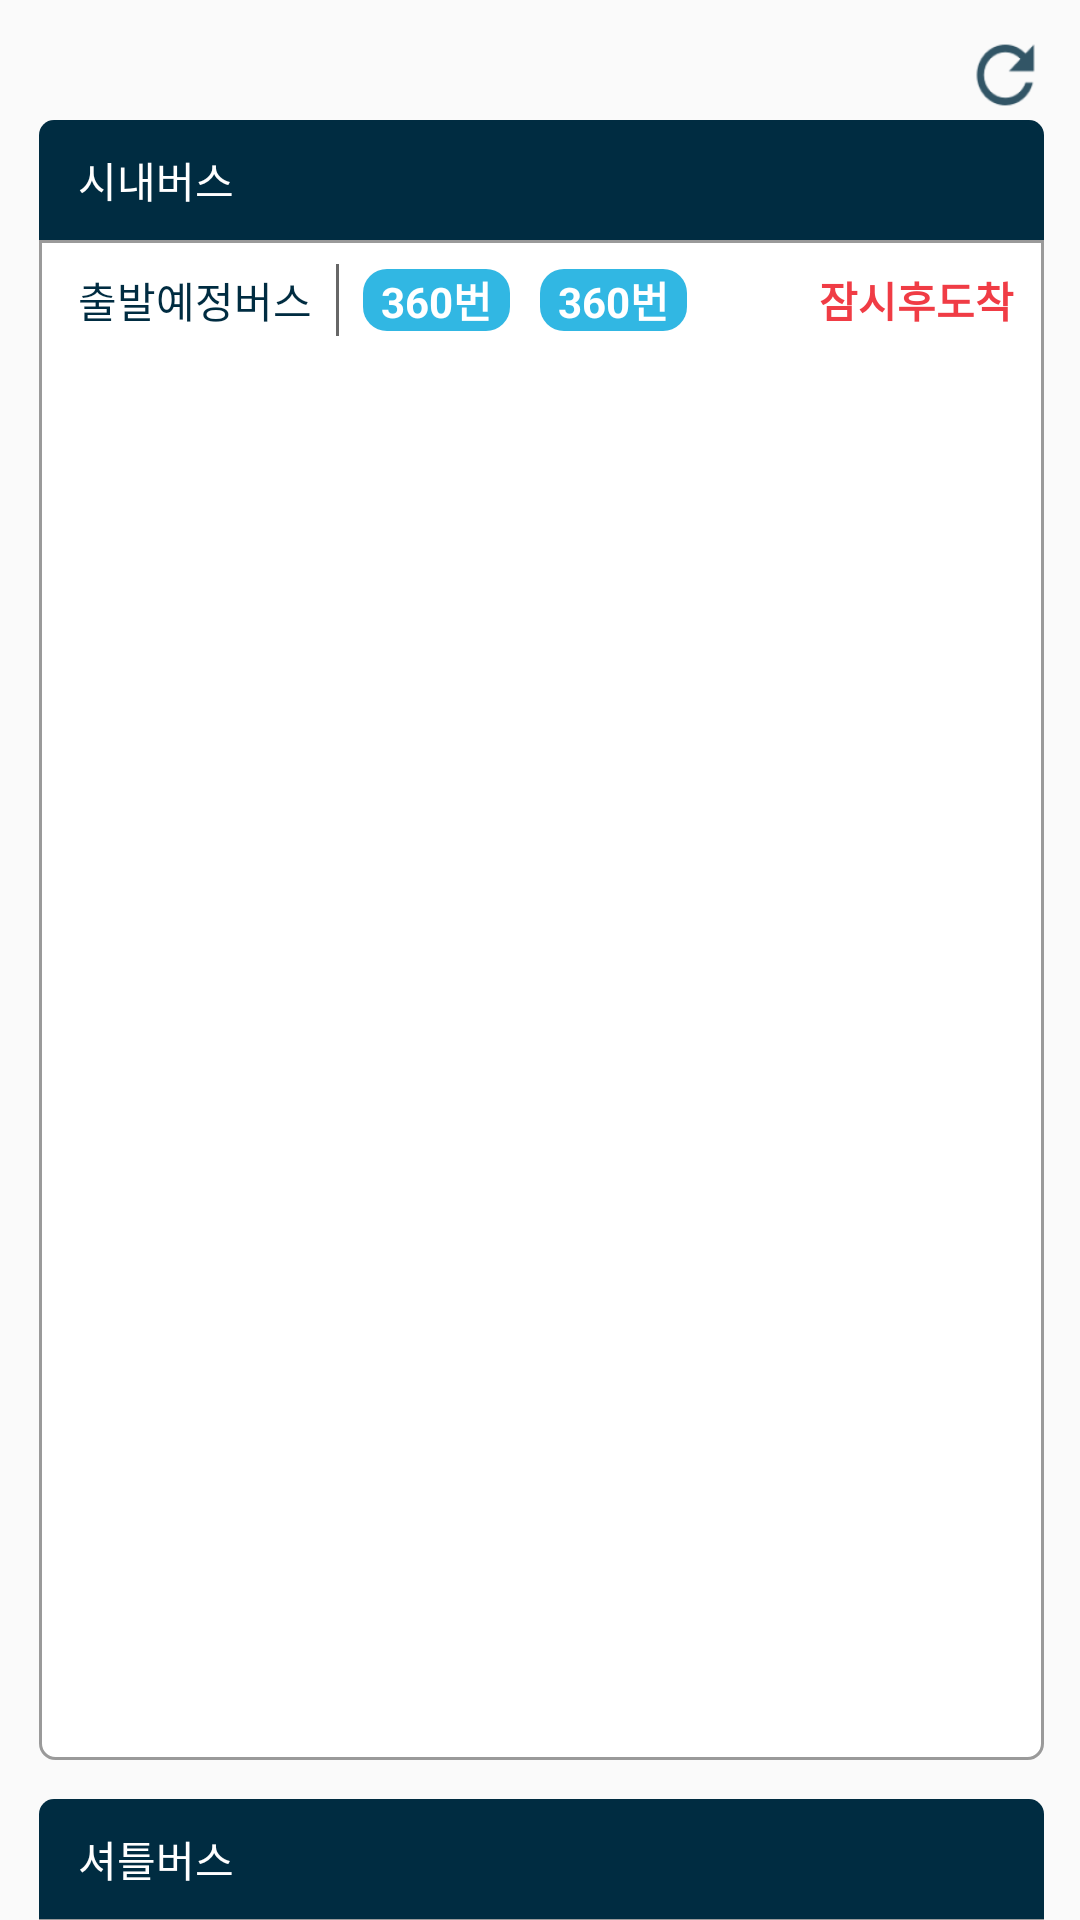

Locate icon controls on the screen. Image size 1080 x 1920, boxes as detection(x1, y1, x2, y2).
refresh: detection(976, 44, 1035, 106)
